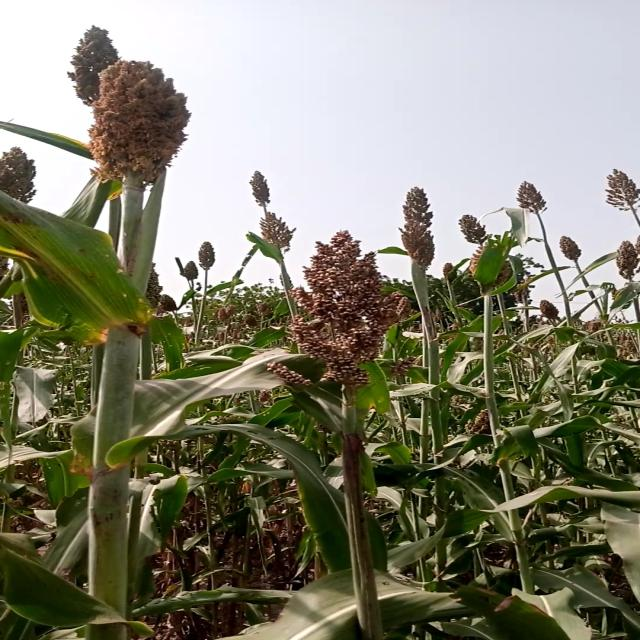RipeSorghum: (278, 227, 412, 388)
UnripeSorghum: (80, 59, 205, 189)
